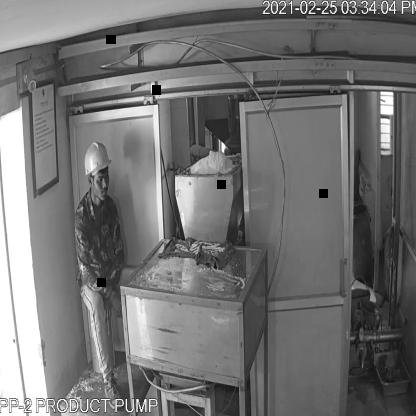helmet: (82, 139, 114, 184)
